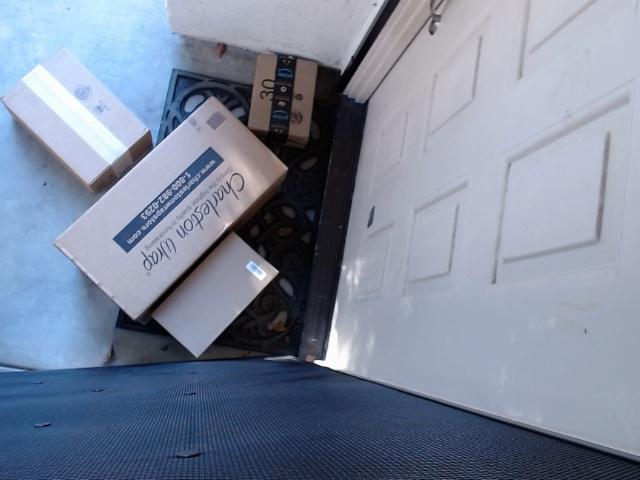box: (72, 92, 310, 312), (0, 31, 166, 178), (154, 228, 294, 367), (249, 22, 339, 168)
